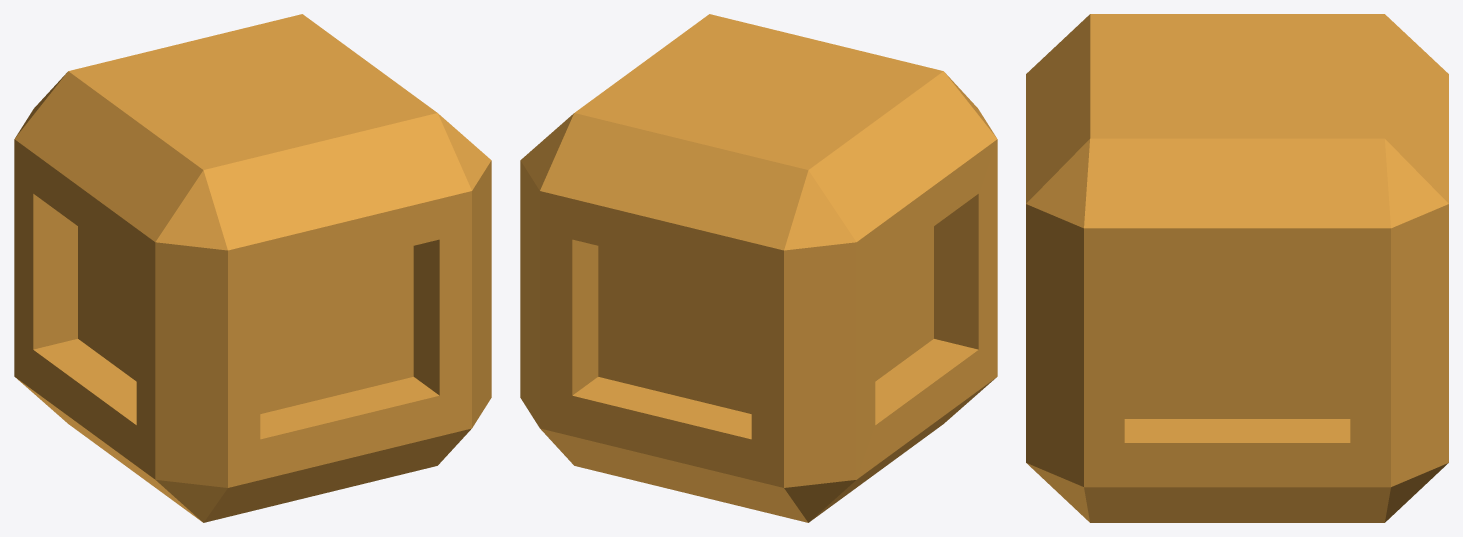
File: scifi-belt-moving-connector.glb
The picture shows the model from 3 angles, left to right: view 1: azimuth 30°, elevation 25°; view 2: azimuth 150°, elevation 25°; view 3: azimuth 270°, elevation 25°; orthographic projection. The views are drawn at different scales.
Parts seen in each view (by area): view 1: belt-moving-connector; view 2: belt-moving-connector; view 3: belt-moving-connector.
Part boxes in pixels (x1=…): belt-moving-connector: x1=14, y1=14, x2=491, y2=522; belt-moving-connector: x1=520, y1=14, x2=997, y2=522; belt-moving-connector: x1=1026, y1=14, x2=1448, y2=522.
Bounding box in the file's own units: 1.5 × 1.5 × 1.5.
